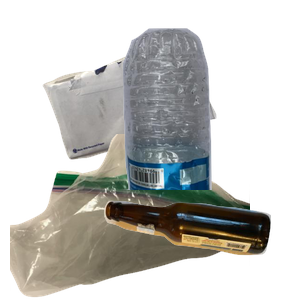glass: (101, 198, 300, 300)
paper: (40, 35, 249, 187)
plastic: (111, 26, 300, 206)
trash: (10, 134, 250, 300)
